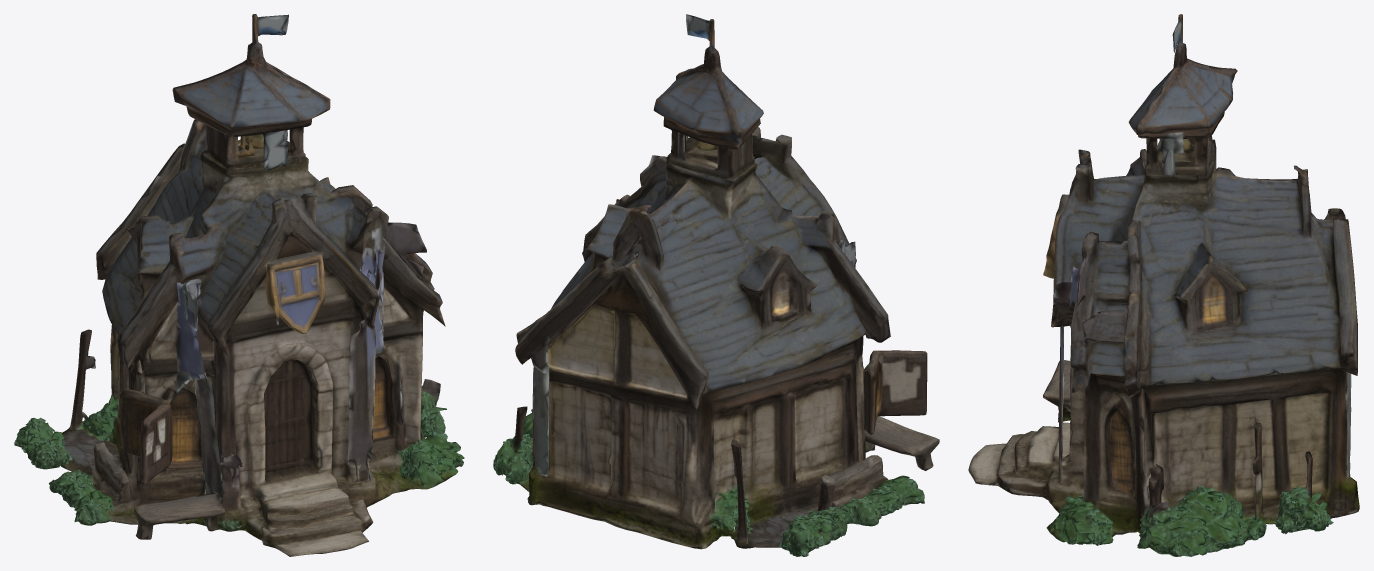
The model's file is town_hall.glb.
3 views of the same model, side by side, from view 1: azimuth 30°, elevation 25°; view 2: azimuth 150°, elevation 25°; view 3: azimuth 270°, elevation 25° (orthographic).
Visible parts, largest first — view 1: town_hall_s7_fit; view 2: town_hall_s7_fit; view 3: town_hall_s7_fit.
Part boxes in pixels (x1=…): town_hall_s7_fit: x1=14, y1=14, x2=464, y2=556; town_hall_s7_fit: x1=493, y1=14, x2=939, y2=556; town_hall_s7_fit: x1=968, y1=14, x2=1359, y2=556.
Size of the model in its own units: 4.09 by 4.76 by 3.64.
1 material, 1 textured.
